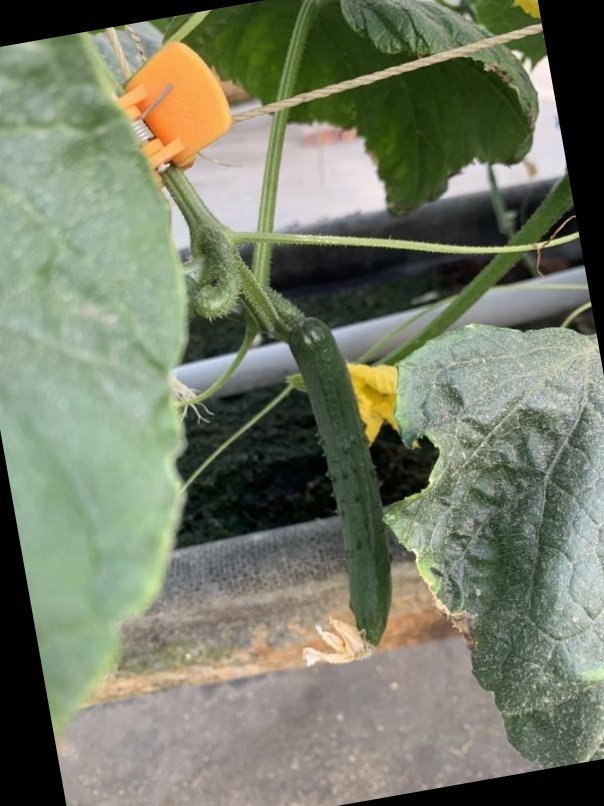mature: (290, 321, 400, 673)
